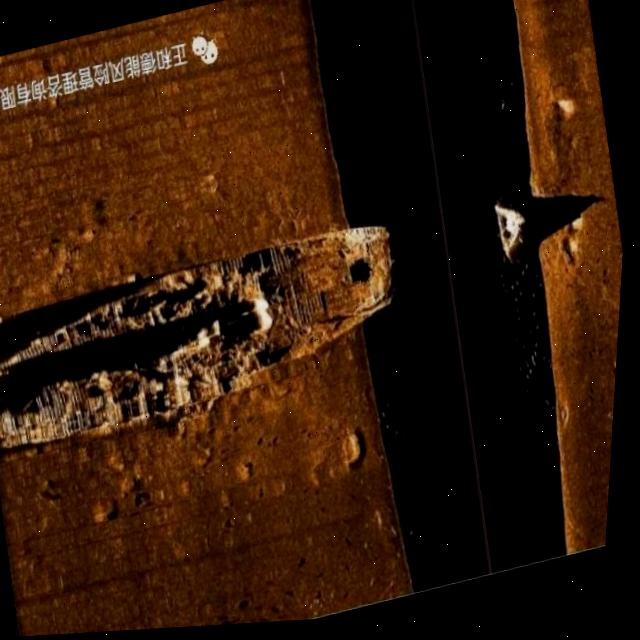shipwreck: (0, 216, 423, 471)
